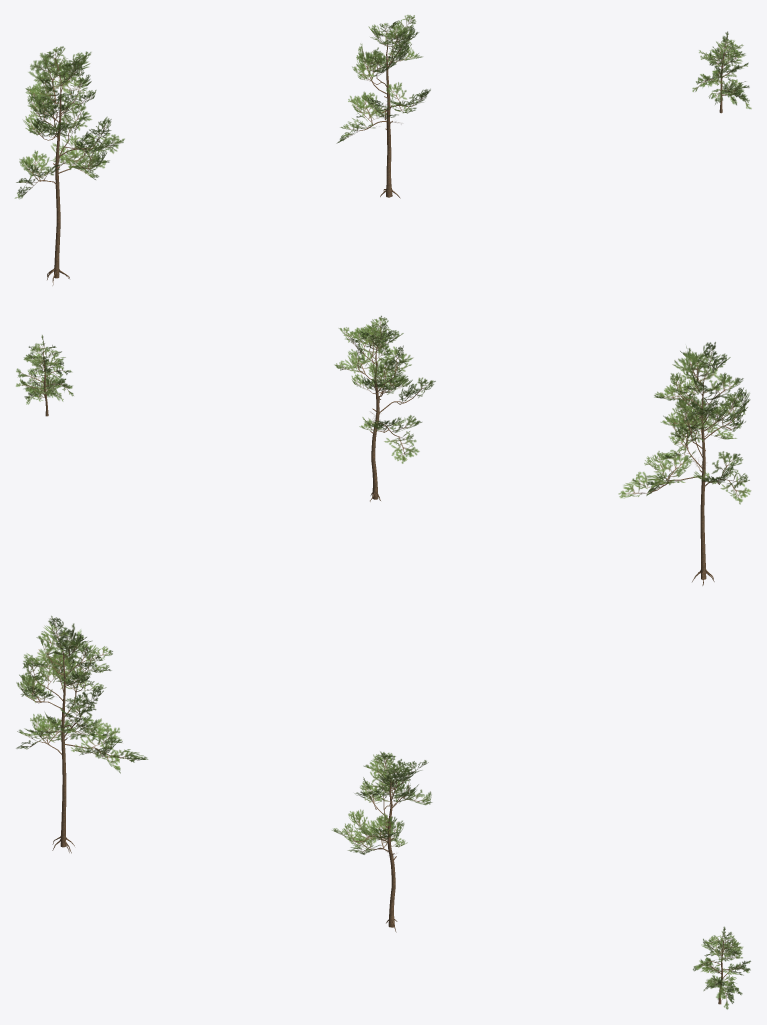
The model's file is pine_trees.glb.
3 renders of one model, top to bottom at view 1: azimuth 30°, elevation 25°; view 2: azimuth 150°, elevation 25°; view 3: azimuth 330°, elevation 25°, orthographic.
Visible parts, largest first — view 1: Pine_medium_1_LOD1, Pine_medium_3_LOD1, Pine_small_3_LOD1; view 2: Pine_medium_1_LOD1, Pine_medium_3_LOD1, Pine_small_3_LOD1; view 3: Pine_medium_1_LOD1, Pine_medium_3_LOD1, Pine_small_3_LOD1.
Boxes of the visible parts, x1,y1,x2,y2 form: Pine_medium_1_LOD1: [14, 46, 124, 285]; Pine_medium_3_LOD1: [336, 15, 430, 198]; Pine_small_3_LOD1: [692, 31, 751, 113]; Pine_medium_1_LOD1: [618, 342, 751, 585]; Pine_medium_3_LOD1: [334, 315, 435, 501]; Pine_small_3_LOD1: [16, 335, 73, 416]; Pine_medium_1_LOD1: [16, 616, 148, 853]; Pine_medium_3_LOD1: [332, 751, 432, 932]; Pine_small_3_LOD1: [693, 926, 750, 1009].
Bounding box in the file's own units: 44.56 × 13.92 × 5.74.
2 materials, 2 textured.
